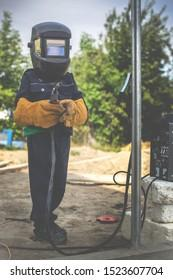gloves: (15, 98, 63, 127), (59, 98, 89, 127)
